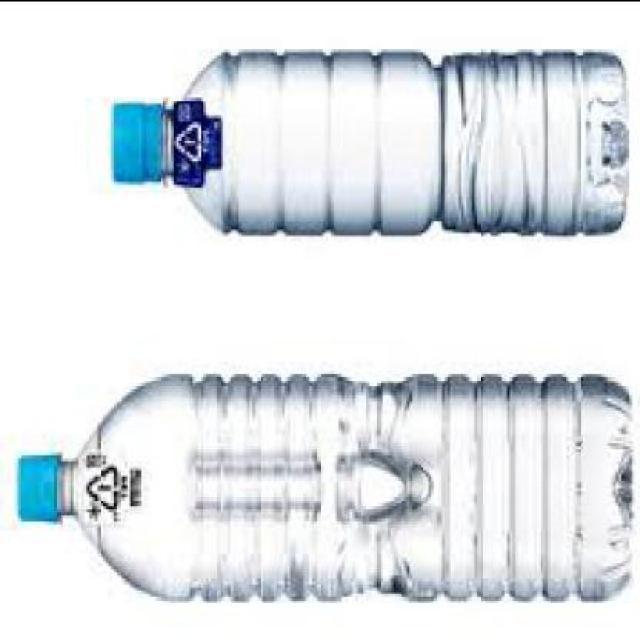PLASTIC: (14, 370, 629, 598), (108, 45, 624, 232), (108, 97, 161, 180), (16, 448, 62, 517)
